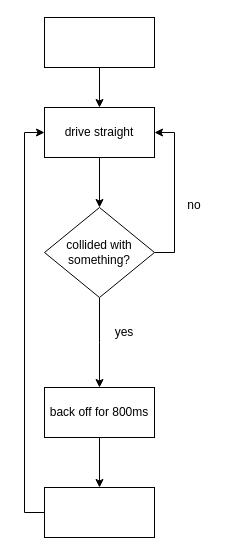
The diagram is 242 pixels wide and 555 high, and some of its shapes have lost their labels. The centre of each missing label's shape, as x and y in pixels:
START: point (99, 42)
turn in place right for 300ms: point (99, 512)
